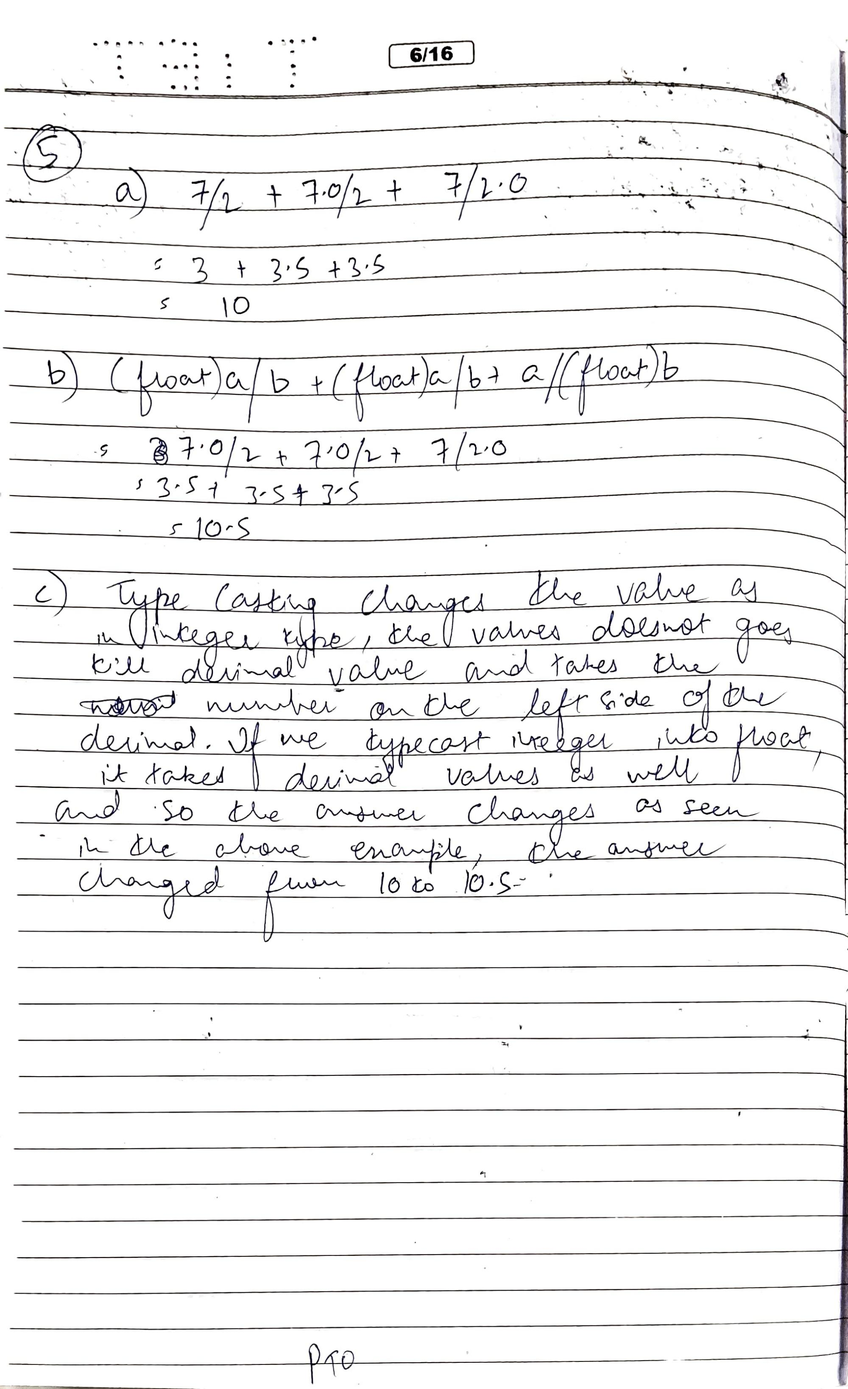cuttings: (79, 689, 176, 718), (149, 437, 169, 466)
